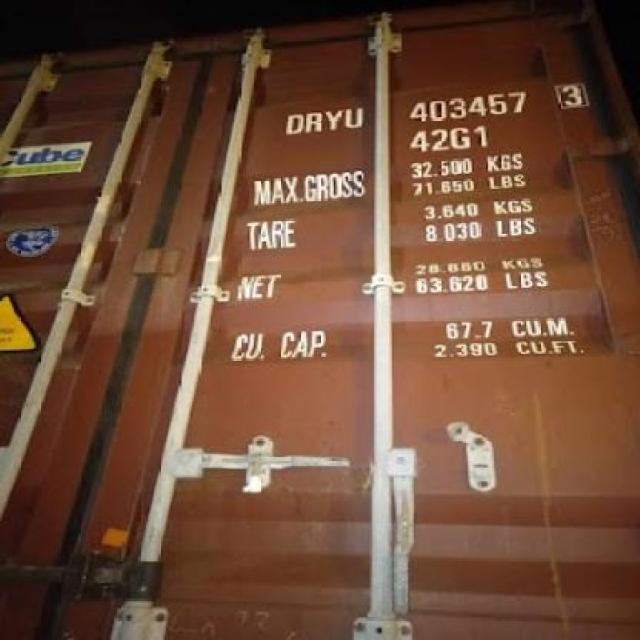ISO: (407, 130, 490, 150)
container_number: (276, 80, 584, 136)
